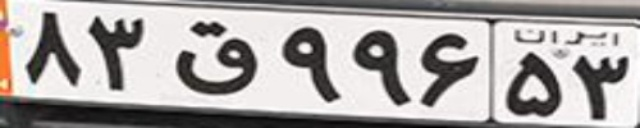3: (87, 14, 148, 91), (571, 53, 628, 120)
5: (503, 50, 561, 118)
6: (421, 32, 477, 108)
8: (20, 10, 81, 86)
9: (350, 27, 412, 105), (282, 25, 342, 103)
ghaf: (172, 20, 259, 95)
